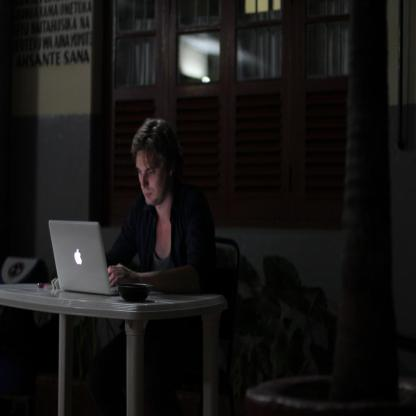board: (48, 218, 120, 297)
